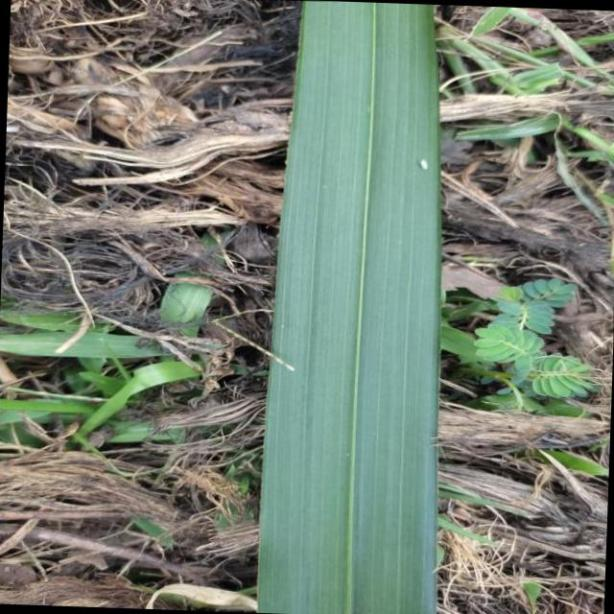Healthy: (262, 0, 445, 614)
